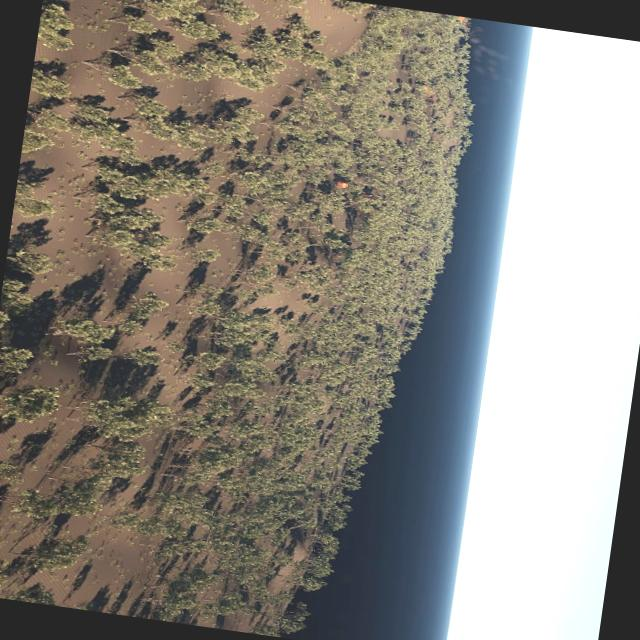fire: (334, 180, 348, 189), (454, 16, 466, 22)
smoke: (467, 37, 512, 82)
